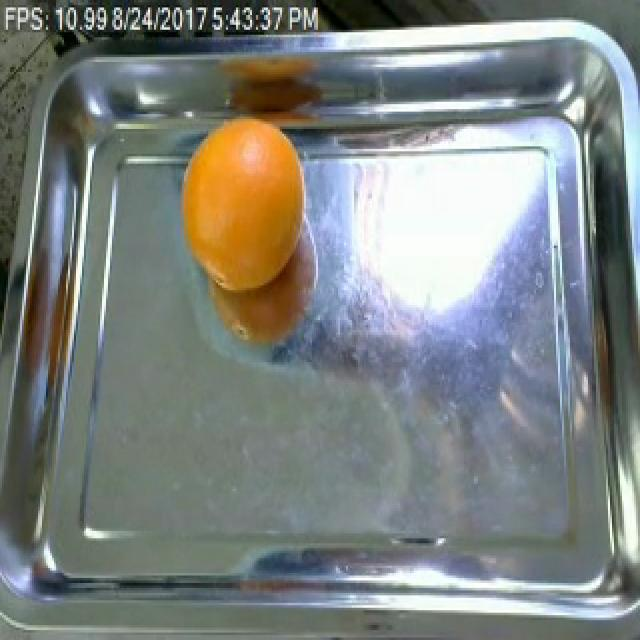Fruit: (176, 114, 314, 303)
